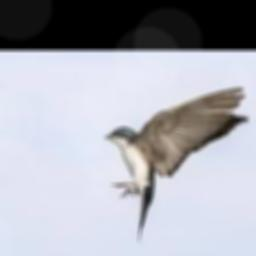Swallow: (105, 87, 249, 242)
